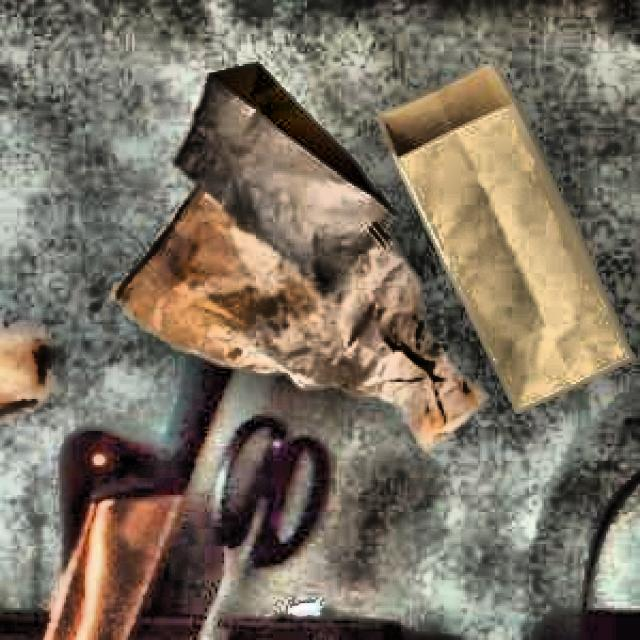Paper-bag: (92, 123, 500, 463), (374, 70, 640, 414), (170, 43, 393, 272)
